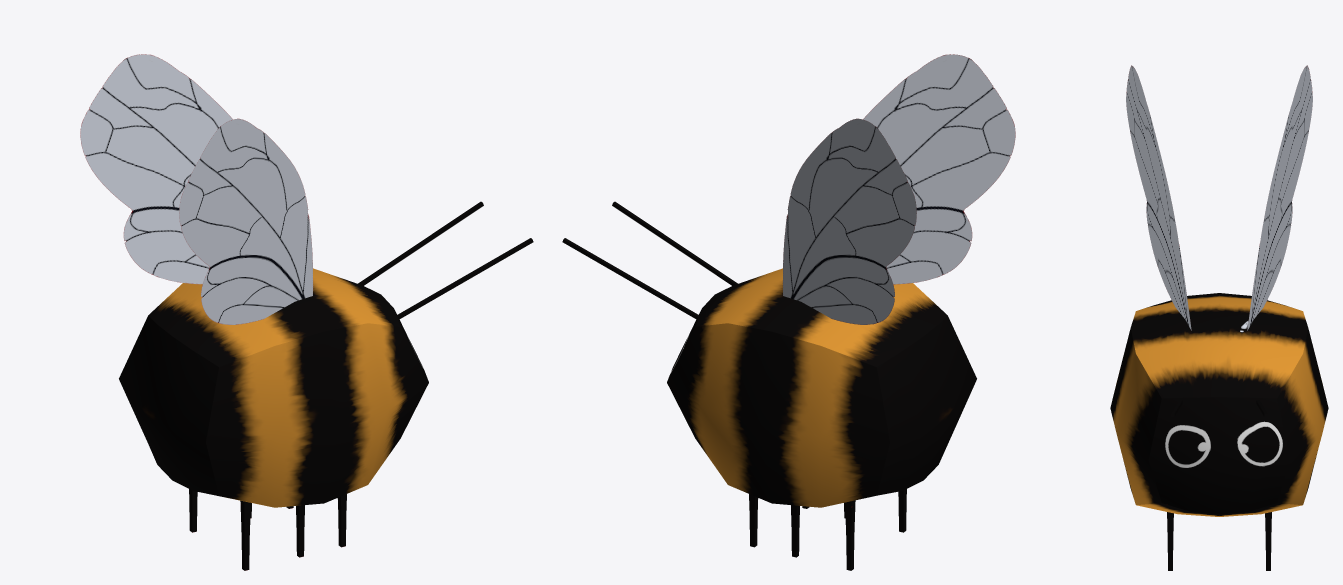
The model's file is bee_geo (2).fbx.
The picture shows the model from 3 angles, left to right: view 1: azimuth 30°, elevation 25°; view 2: azimuth 150°, elevation 25°; view 3: azimuth 270°, elevation 25°; orthographic projection. The views are drawn at different scales.
Visible parts, largest first — view 1: Bee_geo; view 2: Bee_geo; view 3: Bee_geo.
Part boxes in pixels (x1,y1,x2,y2): Bee_geo: (80, 54, 533, 570); Bee_geo: (562, 54, 1015, 570); Bee_geo: (1110, 65, 1328, 570).
Bounding box in the file's own units: 13.22 × 14.73 × 6.05.
